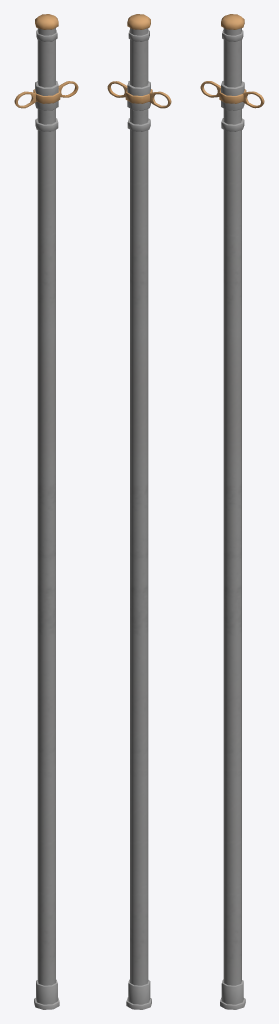
Rendered from Pole_B.fbx.
3 renders of one model, left to right at view 1: azimuth 30°, elevation 25°; view 2: azimuth 150°, elevation 25°; view 3: azimuth 330°, elevation 25°, orthographic.
Visible parts, largest first — view 1: Pole_B; view 2: Pole_B; view 3: Pole_B.
Boxes of the visible parts, box(x1,y1,x2,y2) form: Pole_B: box(14, 14, 78, 1009); Pole_B: box(107, 14, 171, 1009); Pole_B: box(200, 14, 264, 1009).
Size of the model in its own units: 0.173 by 2.6 by 0.0665.
